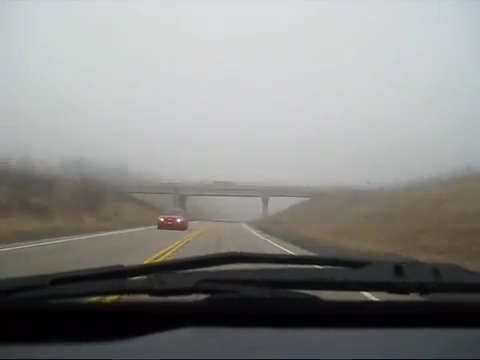car: (158, 206, 188, 231)
